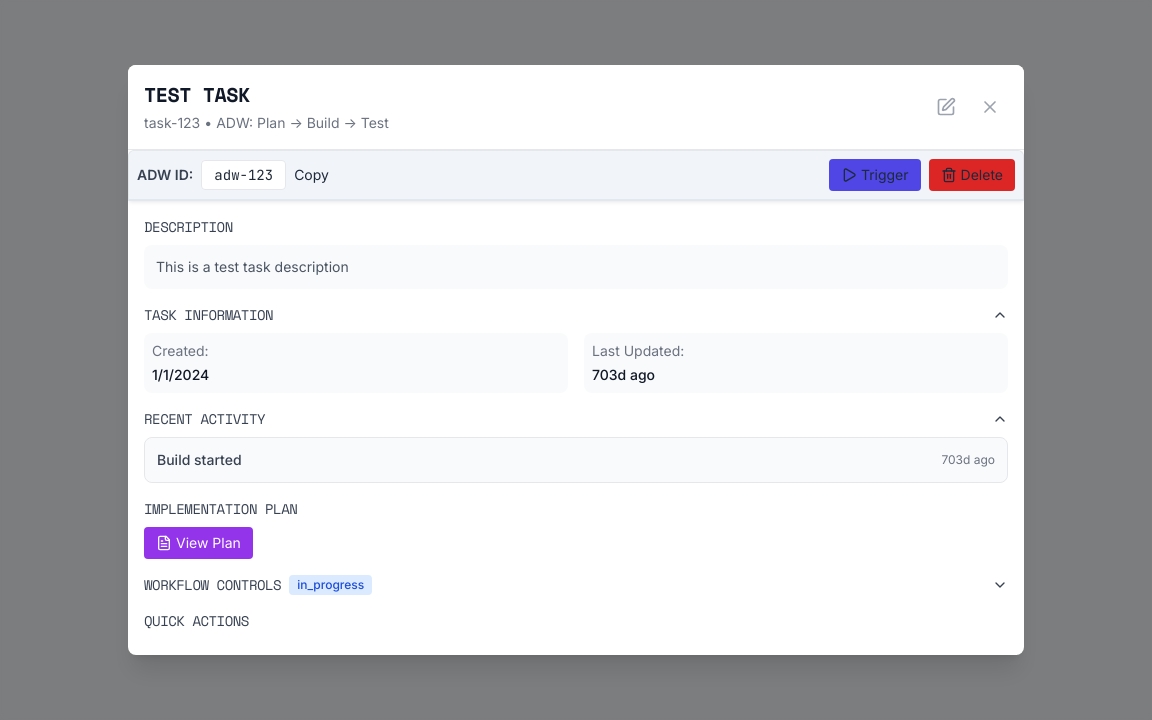
Scenario: TaskDetailsModal Component › Workflow Controls › should display workflow status
Click the heading "Workflow Controls". click: (213, 585)
box: [144,575,281,595]
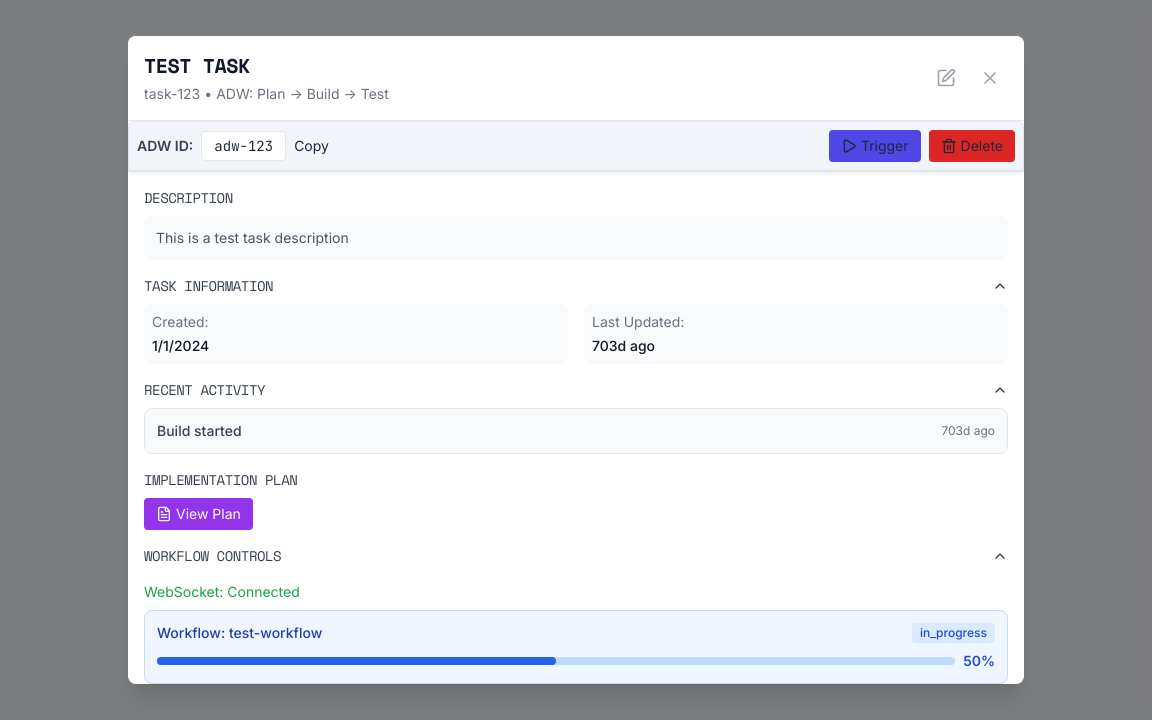
Expected: the text "Workflow: test-workflow" is shown, [157,623,322,643]
